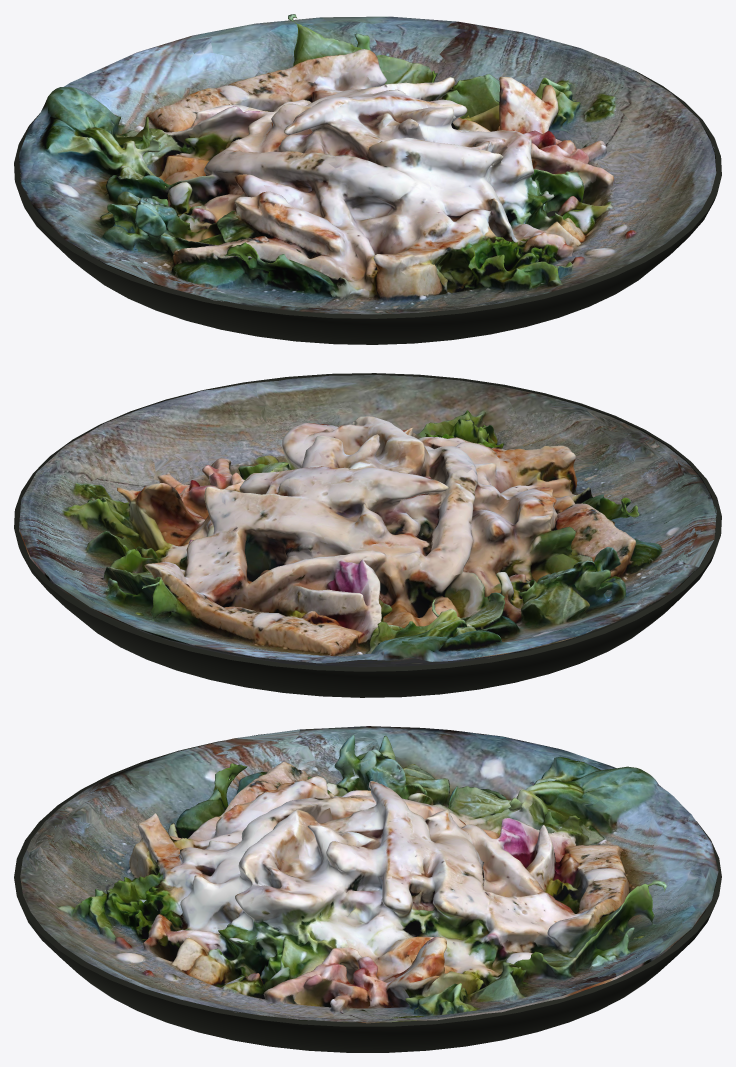
Rendered from Plato_01.glb.
3 renders of one model, top to bottom at view 1: azimuth 30°, elevation 25°; view 2: azimuth 150°, elevation 25°; view 3: azimuth 270°, elevation 25°, orthographic.
Visible parts, largest first — view 1: CesarSaladOriSculpt_ReDecim, CesarSBasePlate; view 2: CesarSaladOriSculpt_ReDecim, CesarSBasePlate; view 3: CesarSaladOriSculpt_ReDecim, CesarSBasePlate.
Part boxes in pixels (<box>): CesarSaladOriSculpt_ReDecim: <box>19,14,716,314</box>; CesarSBasePlate: <box>14,57,721,344</box>; CesarSaladOriSculpt_ReDecim: <box>19,375,716,667</box>; CesarSBasePlate: <box>14,373,721,697</box>; CesarSaladOriSculpt_ReDecim: <box>20,726,718,1023</box>; CesarSBasePlate: <box>14,734,721,1052</box>.
Bounding box in the file's own units: 0.253 × 0.0469 × 0.253.
Materials: 2 (1 with a texture image).
